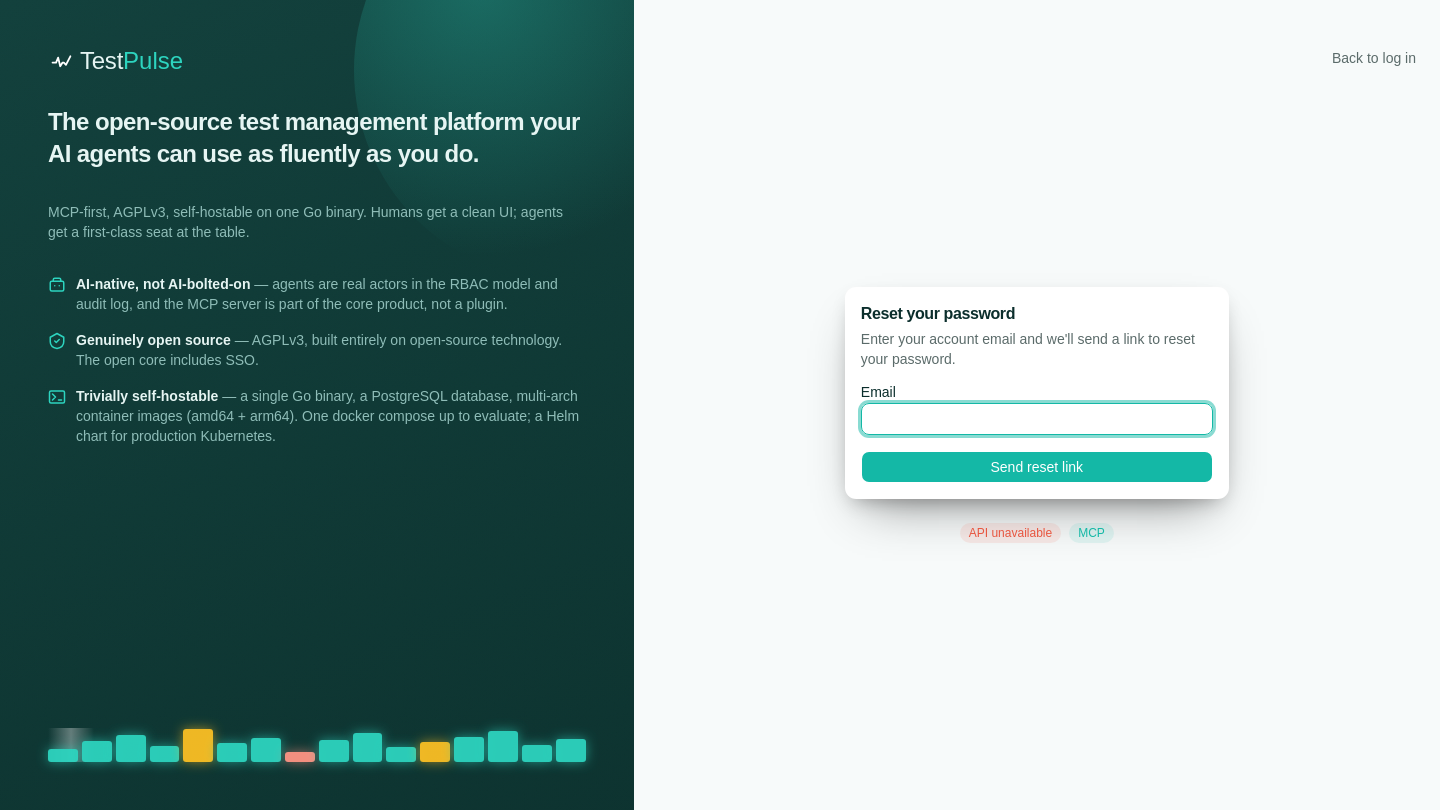
ForgotPasswordPage › shows a network-failure message when the request throws
This screenshot has width=1440, height=810.
Type "anyone@example.com" into the field labelled "Email".
click(1037, 419); type("anyone@example.com")  # box left=861, top=403, right=1213, bottom=435
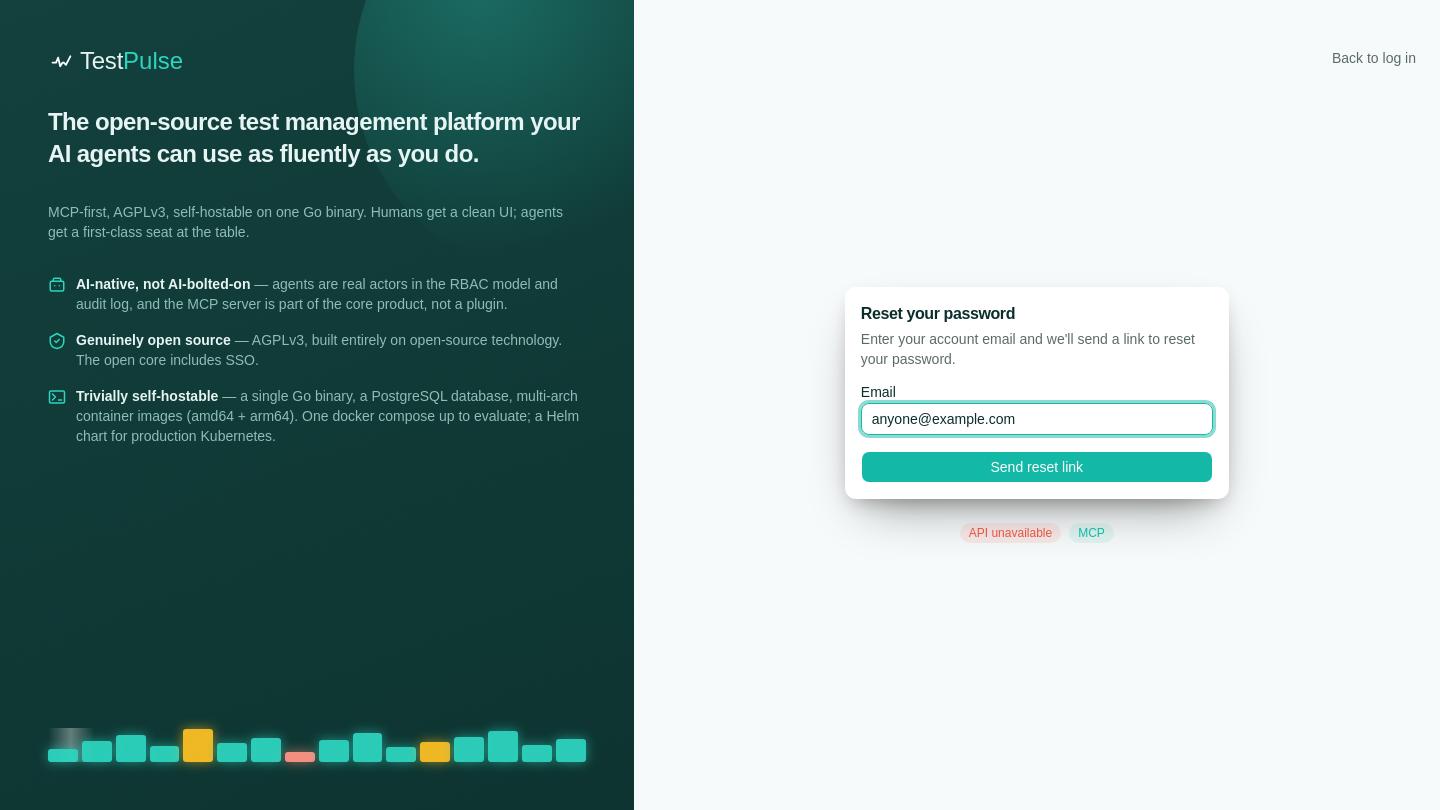
Click the button "Send reset link".
click(1037, 467)  # box left=861, top=451, right=1213, bottom=483
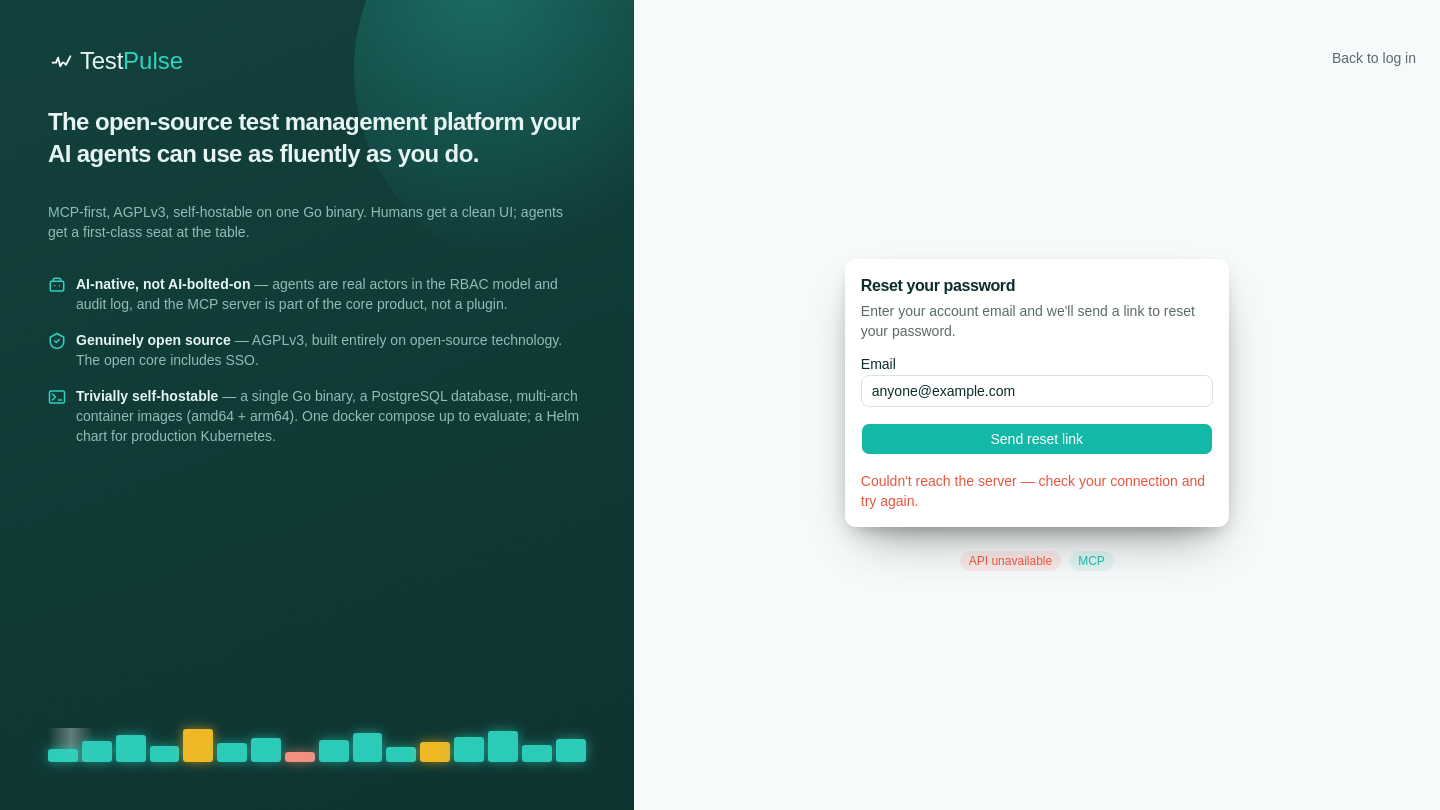
expect the text "Couldn't reach the server" is shown: met, box left=861, top=473, right=1205, bottom=509
